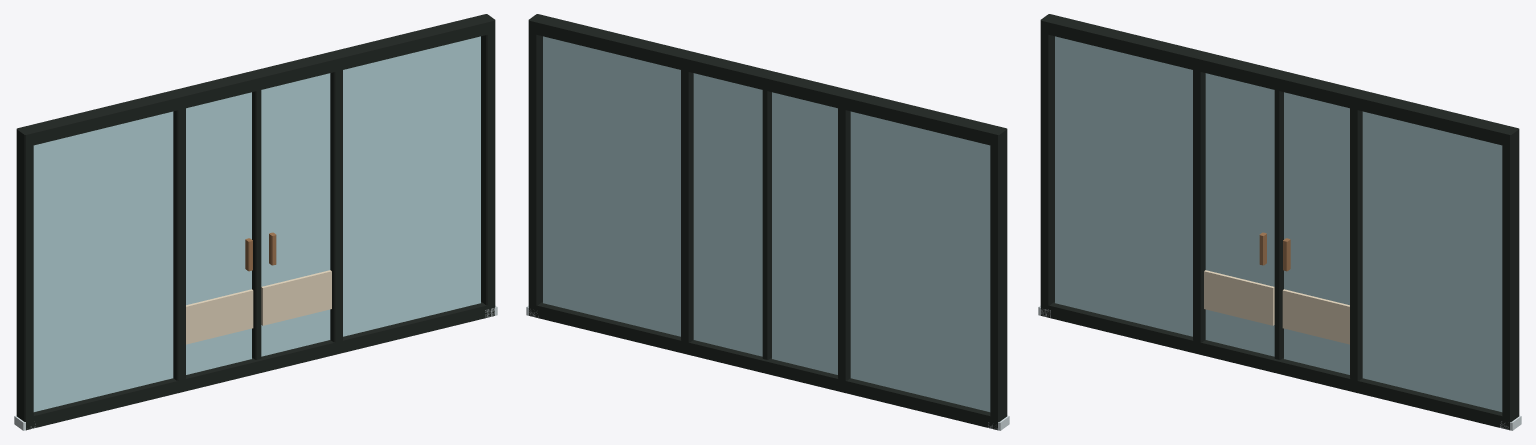
File: gh_glass_partition_v01.glb
3 renders of one model, left to right at view 1: azimuth 30°, elevation 25°; view 2: azimuth 150°, elevation 25°; view 3: azimuth 330°, elevation 25°, orthographic.
Parts seen in each view (by area): view 1: partition; view 2: partition; view 3: partition.
Part boxes in pixels (x1,y1,x2,y2): partition: (14, 14, 497, 430); partition: (526, 14, 1009, 430); partition: (1038, 14, 1521, 430).
Bounding box in the file's own units: 6.04 × 3.6 × 0.25.
2 materials, 1 textured.
